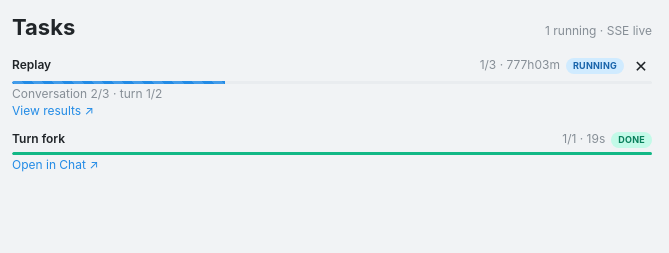
QueuePage › expand lazy-fetches children via GET /tasks/{id} and shows per-child status
Check: the element with test id "task-task-seed-replay" is shown, box x1=12 y1=55 x2=652 y2=119
What coordinates should you click on to do the following:
click the button with aria-label "Toggle children of Replay"
I would click on:
 (32, 65)
Its box is x1=12 y1=57 x2=624 y2=74.
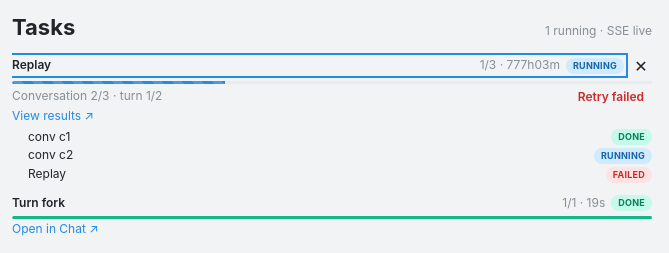
Check: the text "done" in the row of "conv c1" is shown, box x1=618 y1=131 x2=645 y2=142
Check: the text "running" in the row of "conv c2" is shown, box x1=601 y1=150 x2=645 y2=161
Check: the text "failed" is shown, box x1=613 y1=168 x2=645 y2=182
